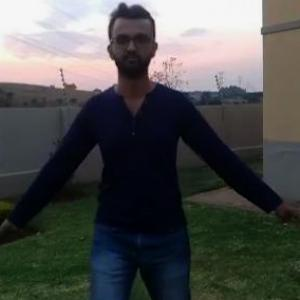land: (19, 30, 268, 299)
